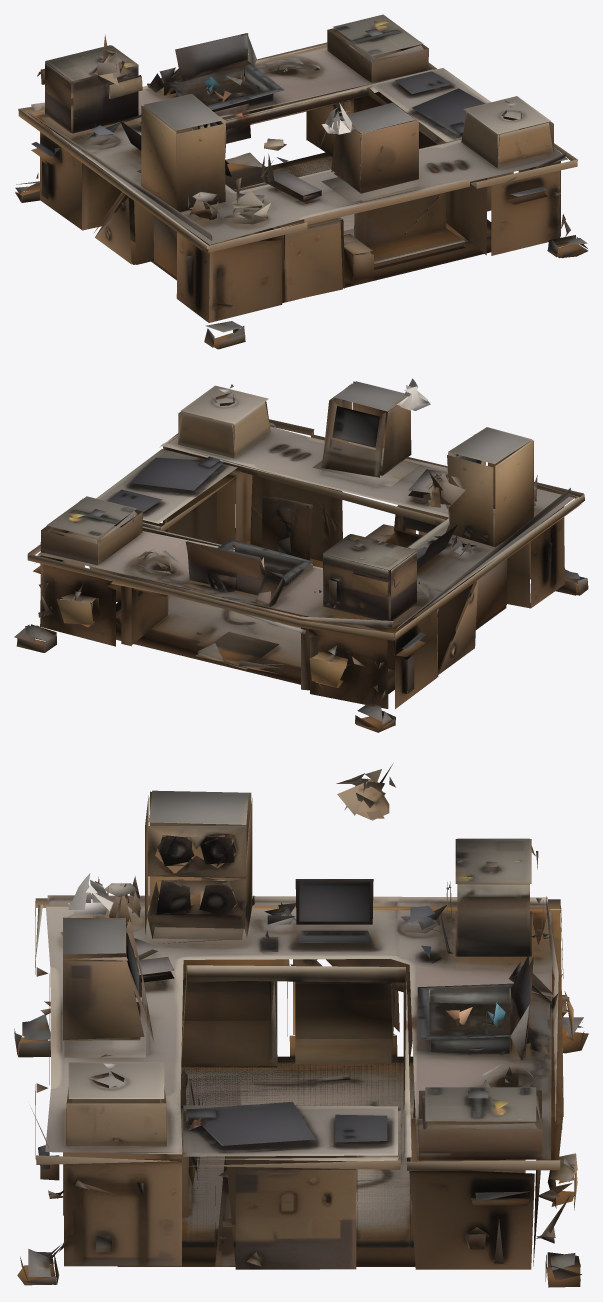
The model's file is ch8_syndicate_field_lab_LOD3.glb.
The picture shows the model from 3 angles, top to bottom: view 1: azimuth 30°, elevation 25°; view 2: azimuth 150°, elevation 25°; view 3: azimuth 270°, elevation 25°; orthographic projection. The views are drawn at different scales.
Parts seen in each view (by area): view 1: tripo_node_7368148b-558b-49bb-bc4a-a773b8729387; view 2: tripo_node_7368148b-558b-49bb-bc4a-a773b8729387; view 3: tripo_node_7368148b-558b-49bb-bc4a-a773b8729387.
Part boxes in pixels (x1,y1,x2,y2): tripo_node_7368148b-558b-49bb-bc4a-a773b8729387: [15, 14, 587, 349]; tripo_node_7368148b-558b-49bb-bc4a-a773b8729387: [14, 378, 588, 732]; tripo_node_7368148b-558b-49bb-bc4a-a773b8729387: [14, 763, 588, 1287].
Bounding box in the file's own units: 0.998 × 0.5421 × 0.9423.
Materials: 1 (1 with a texture image).
